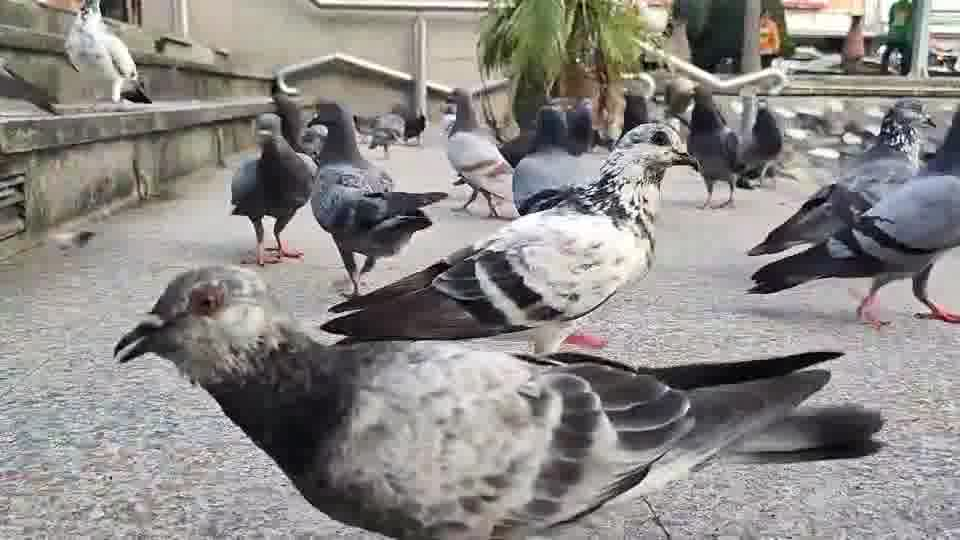Pigeon: (111, 264, 847, 538), (319, 137, 699, 352), (743, 106, 959, 328), (305, 96, 447, 298), (226, 111, 318, 266), (62, 0, 152, 111), (667, 82, 744, 209), (442, 86, 513, 218), (0, 61, 61, 115)
